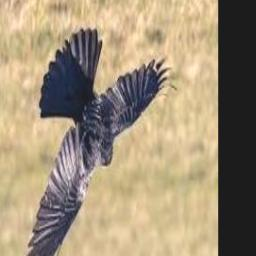Crow: (18, 30, 177, 256)
